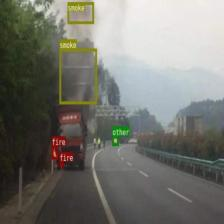fire: (52, 145, 58, 159), (59, 162, 63, 166)
smoke: (60, 48, 96, 104), (68, 2, 94, 24)
